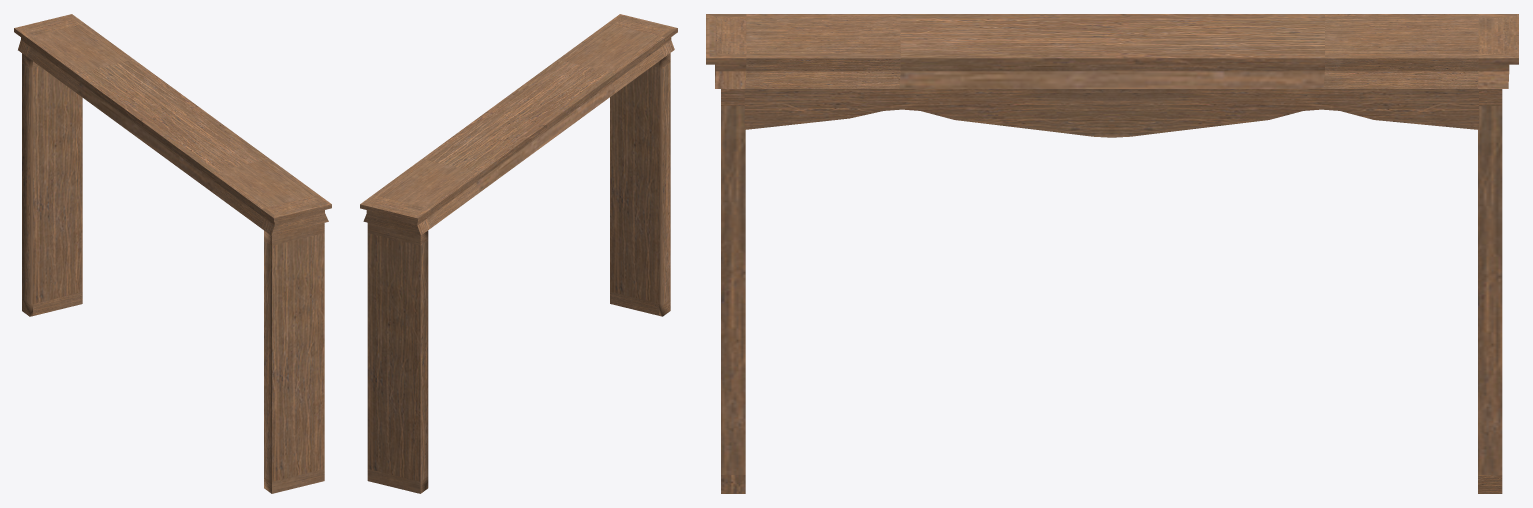
Rendered from Room 1 Reflective Mirror.fbx.
3 views of the same model, side by side, from view 1: azimuth 30°, elevation 25°; view 2: azimuth 150°, elevation 25°; view 3: azimuth 270°, elevation 25° (orthographic). The views are drawn at different scales.
Parts seen in each view (by area): view 1: Reflective Mirror; view 2: Reflective Mirror; view 3: Reflective Mirror.
Part boxes in pixels (x1,y1,x2,y2): Reflective Mirror: [14, 14, 331, 493]; Reflective Mirror: [360, 14, 677, 493]; Reflective Mirror: [706, 14, 1518, 493].
Size of the model in its own units: 28.23 by 130 by 220.
